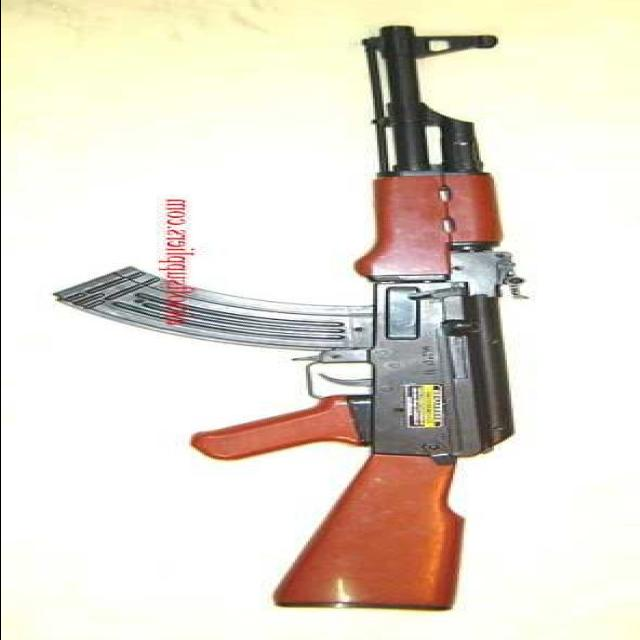heavyweapon: (81, 9, 553, 628)
